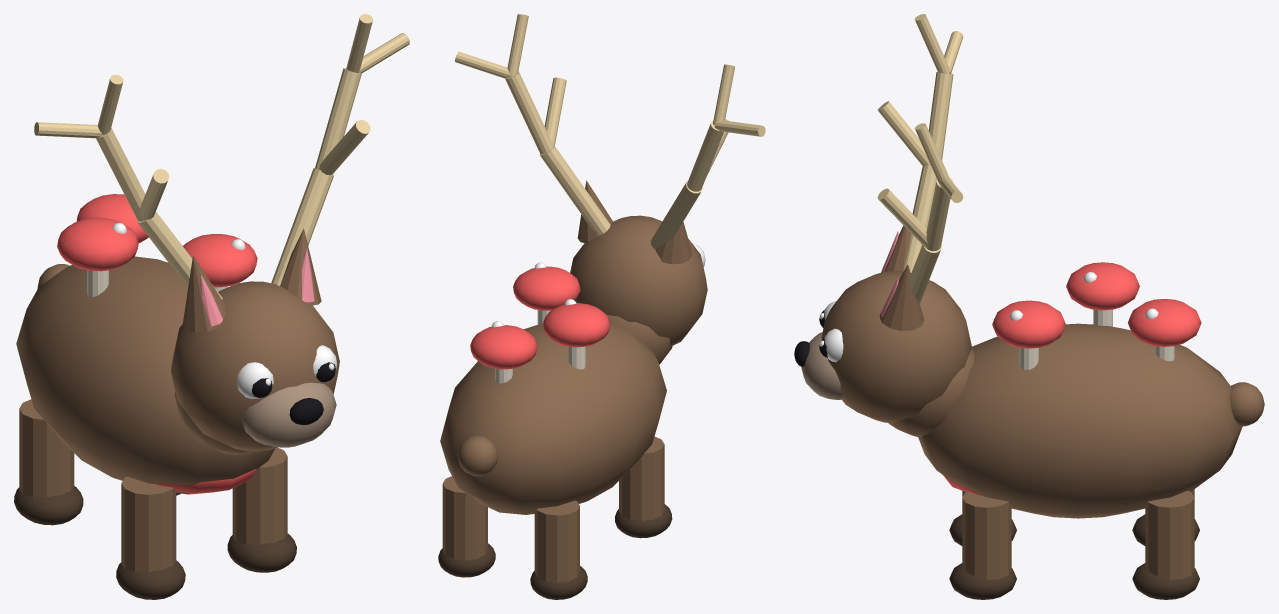
The picture shows the model from 3 angles, left to right: view 1: azimuth 30°, elevation 25°; view 2: azimuth 150°, elevation 25°; view 3: azimuth 270°, elevation 25°; orthographic projection. The views are drawn at different scales.
Parts seen in each view (by area): view 1: Fungus Stag; view 2: Fungus Stag; view 3: Fungus Stag.
Part boxes in pixels (x1,y1,x2,y2): Fungus Stag: (14,14,409,599); Fungus Stag: (438,14,765,599); Fungus Stag: (794,14,1264,599).
Bounding box in the file's own units: 3.12 × 4.49 × 3.82.
Materials: 1 (1 with a texture image).
